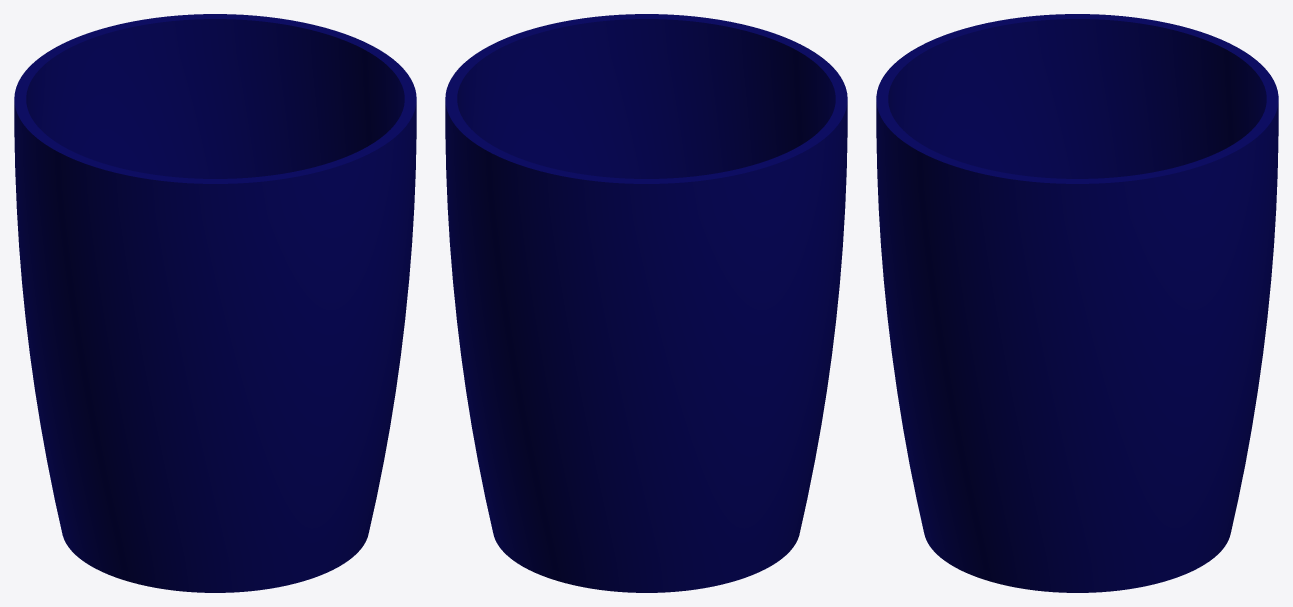
The model's file is original-2.obj.
3 renders of one model, left to right at view 1: azimuth 30°, elevation 25°; view 2: azimuth 150°, elevation 25°; view 3: azimuth 270°, elevation 25°, orthographic.
Visible parts, largest first — view 1: Group1/mesh6/mesh6-geometry#mesh6-geometry; view 2: Group1/mesh6/mesh6-geometry#mesh6-geometry; view 3: Group1/mesh6/mesh6-geometry#mesh6-geometry.
Boxes of the visible parts, x1=… form: Group1/mesh6/mesh6-geometry#mesh6-geometry: x1=14, y1=14, x2=416, y2=592; Group1/mesh6/mesh6-geometry#mesh6-geometry: x1=445, y1=14, x2=847, y2=592; Group1/mesh6/mesh6-geometry#mesh6-geometry: x1=876, y1=14, x2=1278, y2=592.
Bounding box in the file's own units: 1.04 × 1.23 × 1.04.
